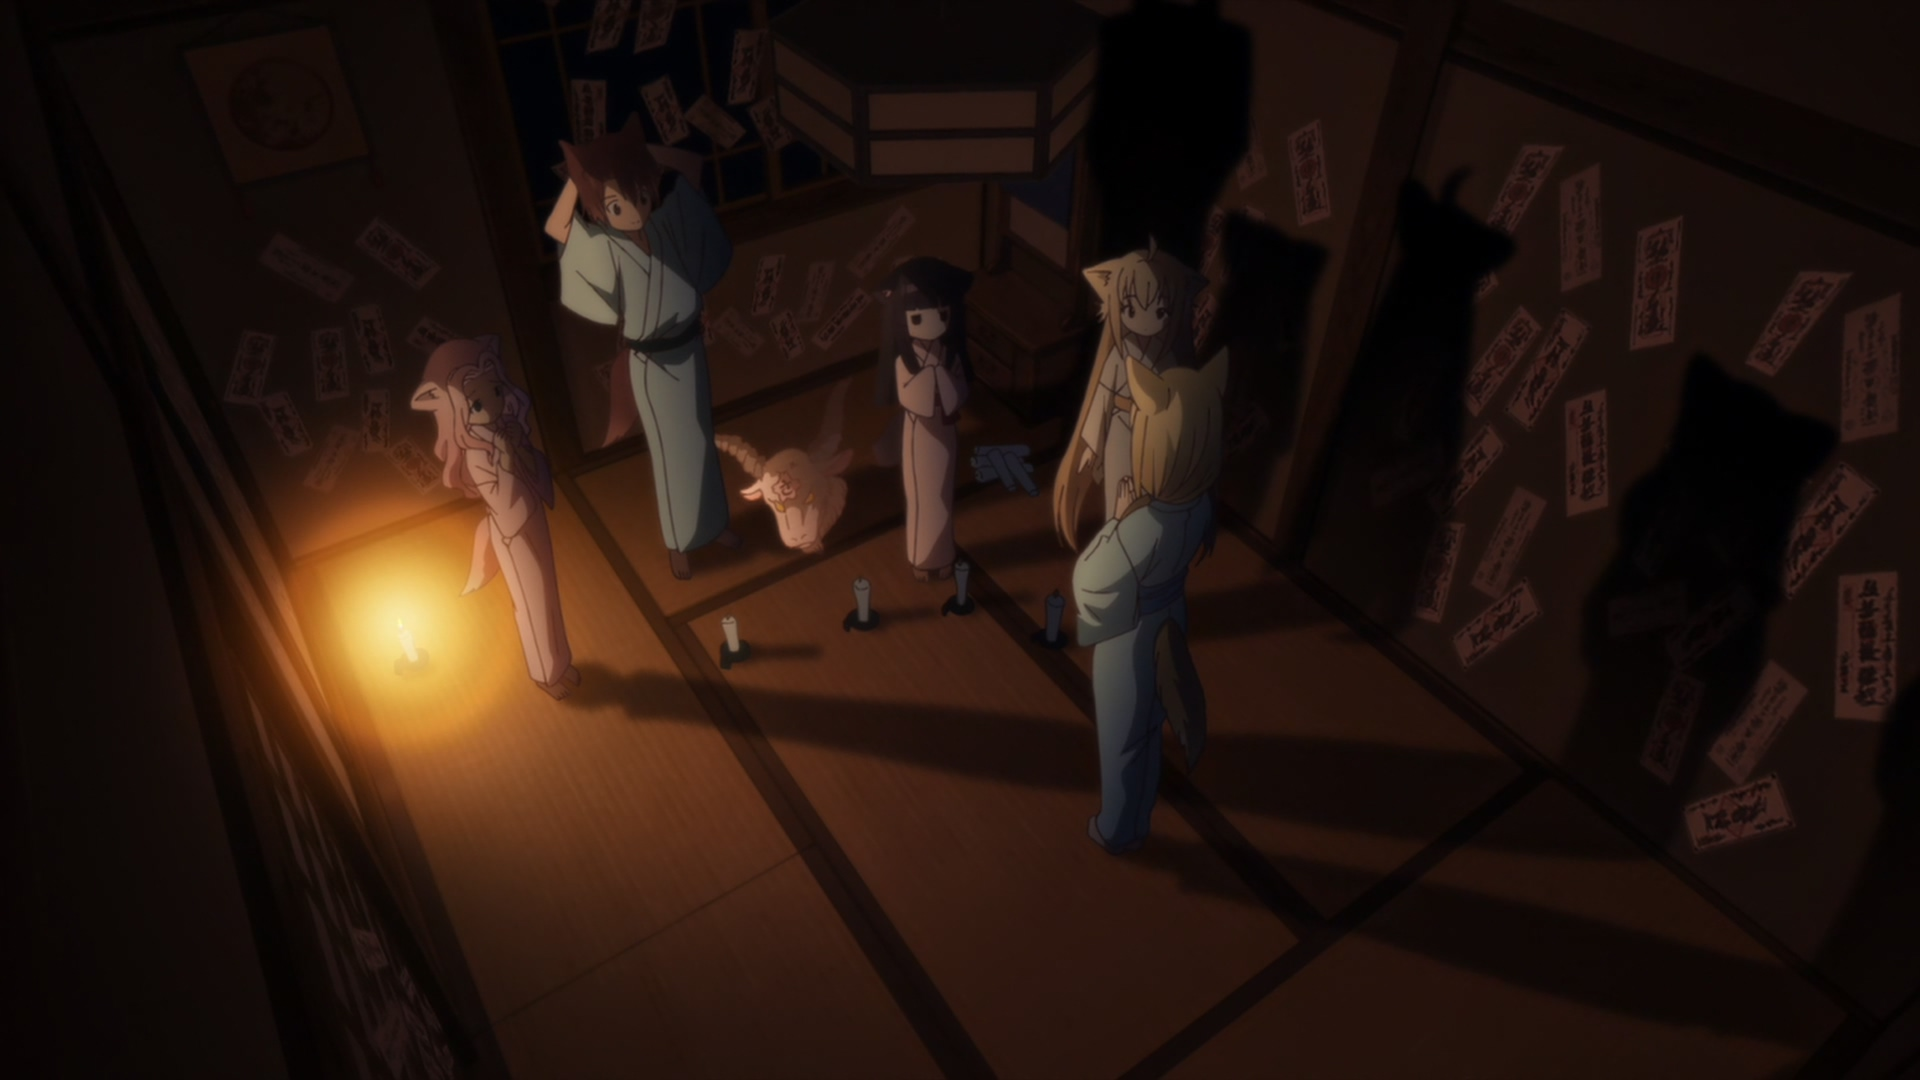枣: (543, 120, 742, 579)
柚: (1052, 231, 1208, 555)
桐: (1072, 347, 1229, 855)
樱: (868, 255, 976, 582)
莲: (409, 331, 585, 704)
